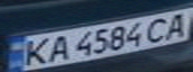4: (124, 19, 151, 47), (72, 29, 96, 58)
5: (90, 26, 112, 55)
8: (109, 24, 130, 52)
A: (160, 10, 193, 39), (42, 33, 72, 63)
C: (142, 15, 175, 44)
K: (15, 35, 54, 69)
